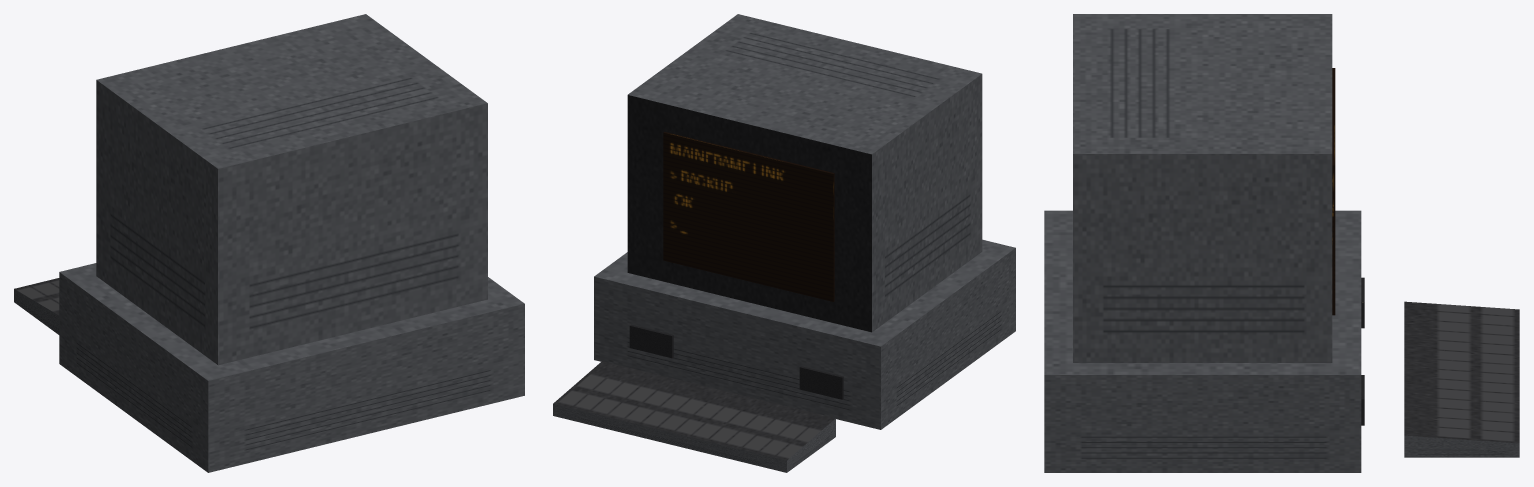
The model's file is SM_SavePC_Terminal.fbx.
The picture shows the model from 3 angles, left to right: view 1: azimuth 30°, elevation 25°; view 2: azimuth 150°, elevation 25°; view 3: azimuth 270°, elevation 25°; orthographic projection. The views are drawn at different scales.
Visible parts, largest first — view 1: SM_SavePC_Terminal; view 2: SM_SavePC_Terminal; view 3: SM_SavePC_Terminal.
Part boxes in pixels (box(x1,y1,x2,y2)): SM_SavePC_Terminal: box(14, 14, 524, 472); SM_SavePC_Terminal: box(553, 14, 1015, 472); SM_SavePC_Terminal: box(1044, 14, 1519, 472).
Bounding box in the file's own units: 0.54 × 0.47 × 0.66.
1 material, 1 textured.
